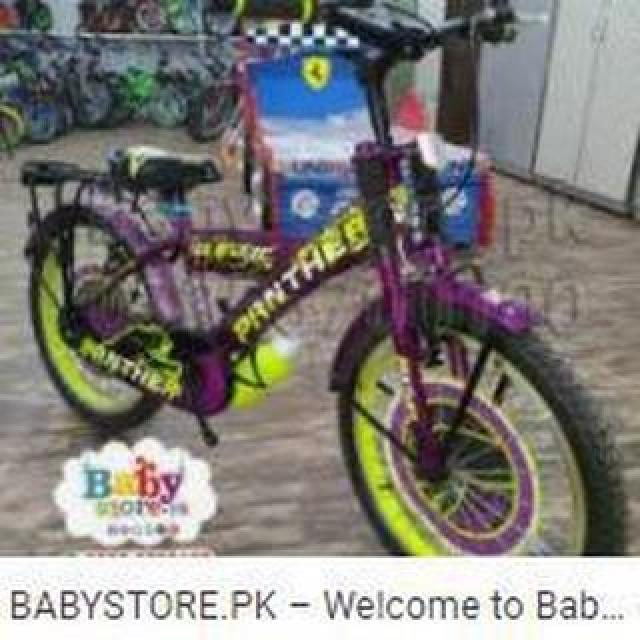Person: (24, 0, 640, 560)
